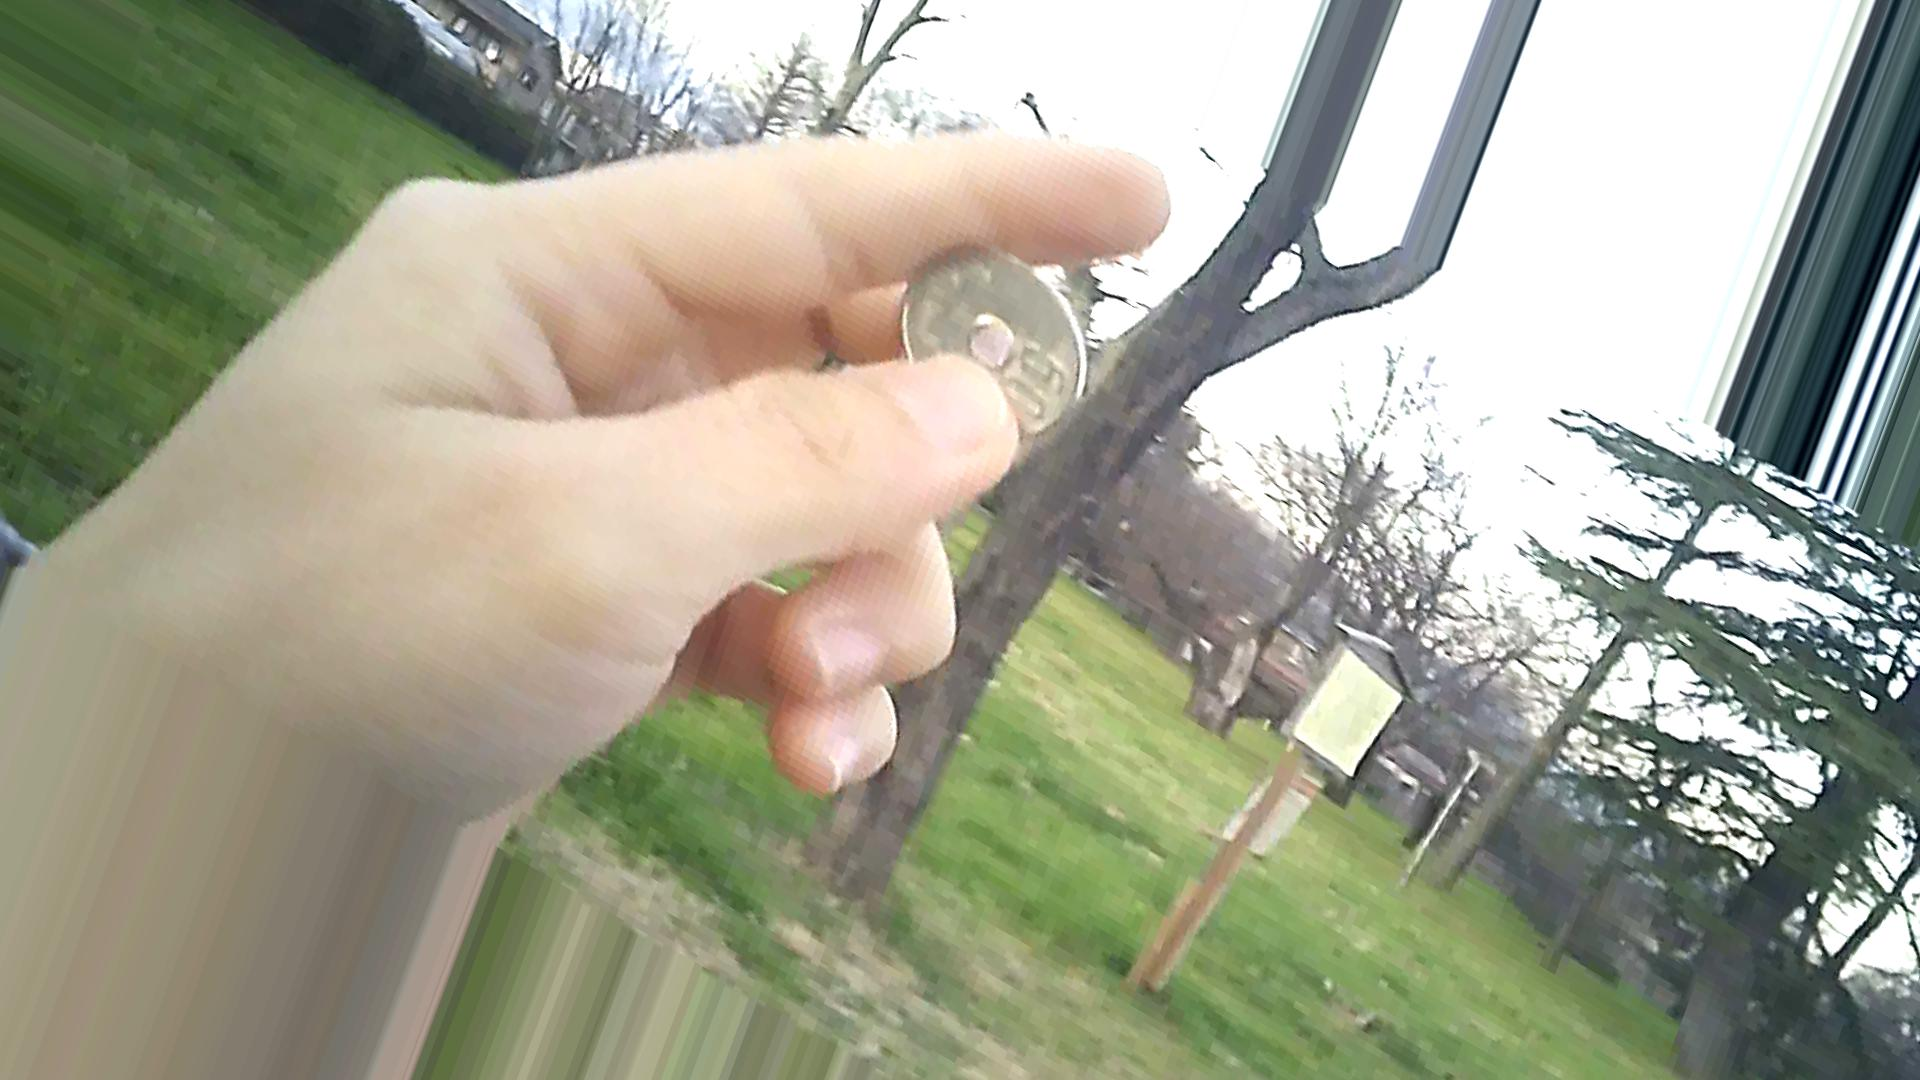50 Yen: (891, 232, 1093, 456)
